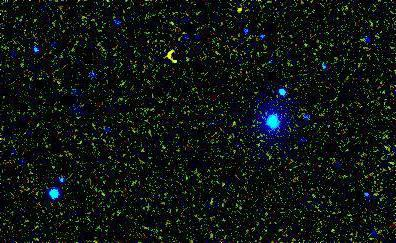star: (226, 0, 256, 25)
